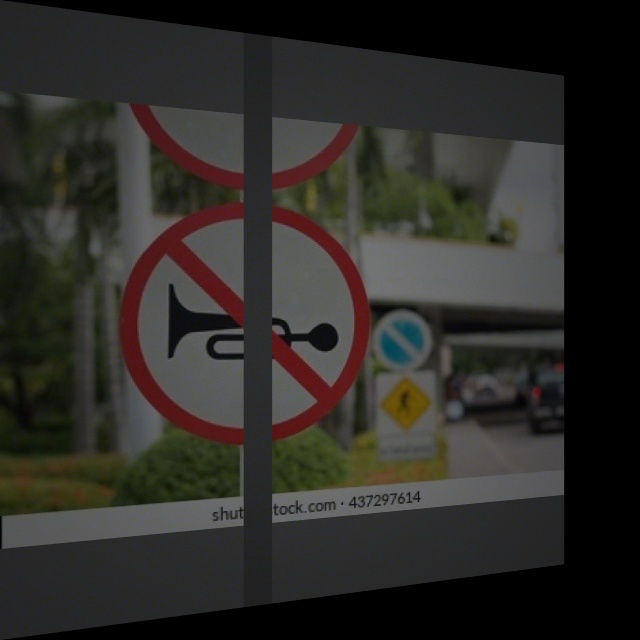Horn_Prohibited: (118, 197, 370, 449)
